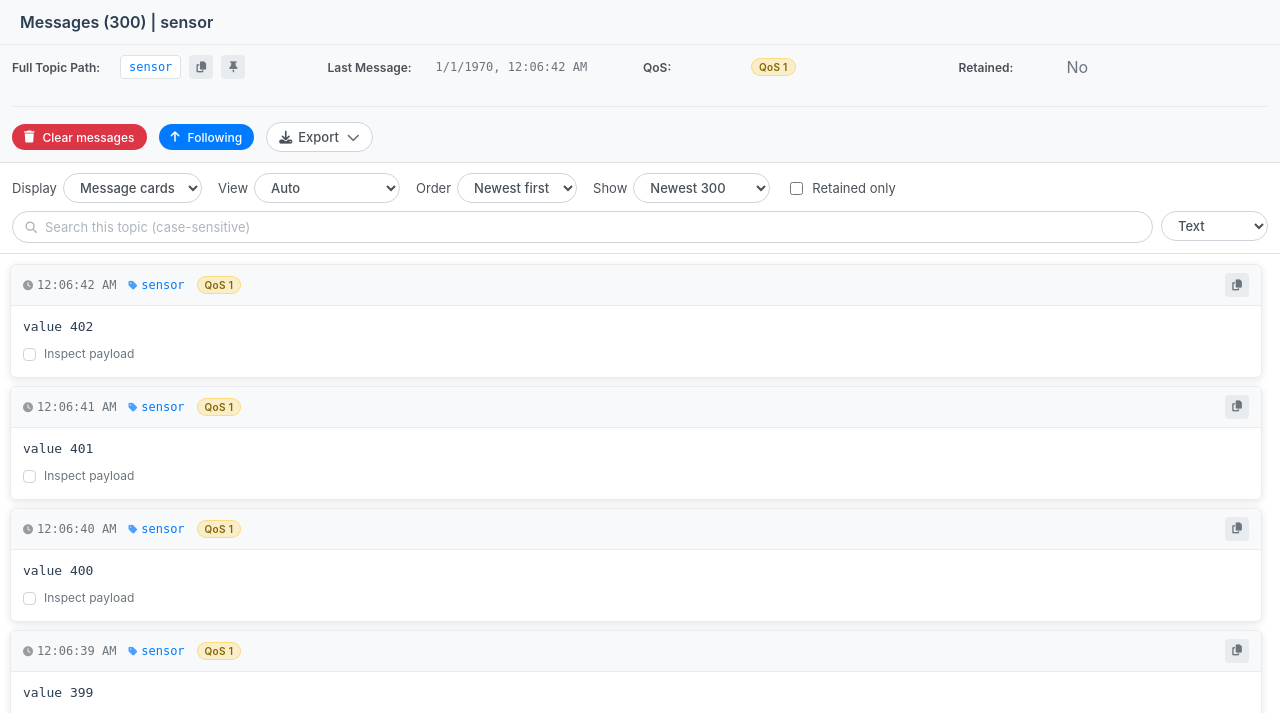
keeps the newest messages up to the Show choice as live messages arrive
Step 1. Select "All messages" in the dropdown labelled "Show" → (702, 188), box [633,173,770,203]
Wait 1000 ms
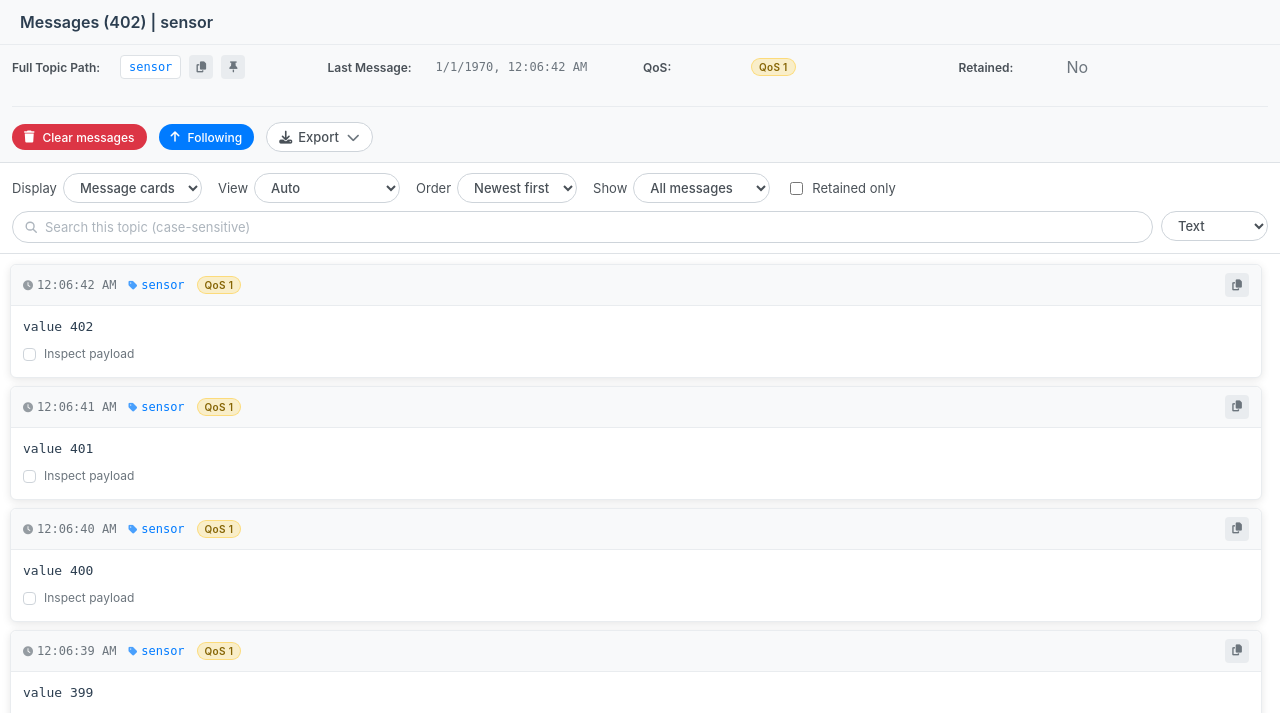
Expected: the heading "Messages (402) | sensor" is shown, [20,12,213,32]
